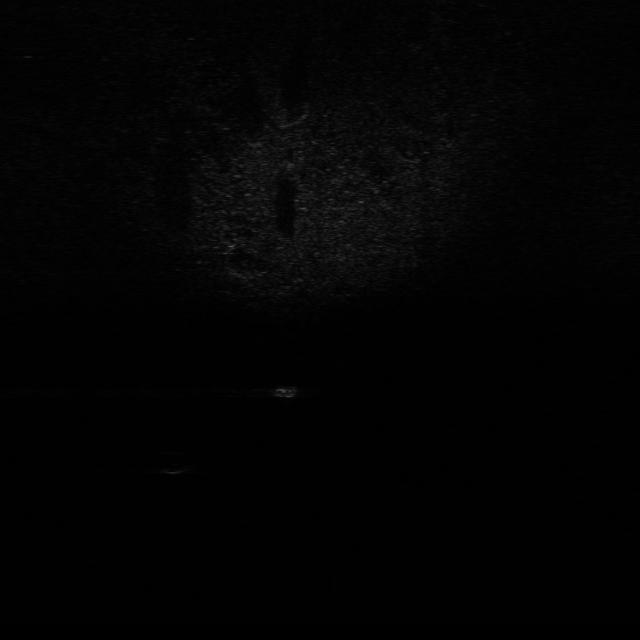ball: (150, 448, 210, 478)
cube: (272, 382, 302, 405)
